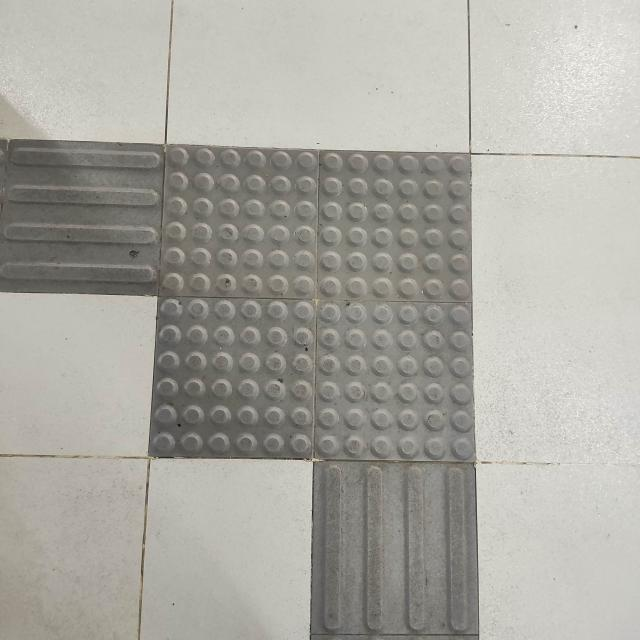kiri: (0, 96, 556, 516)
